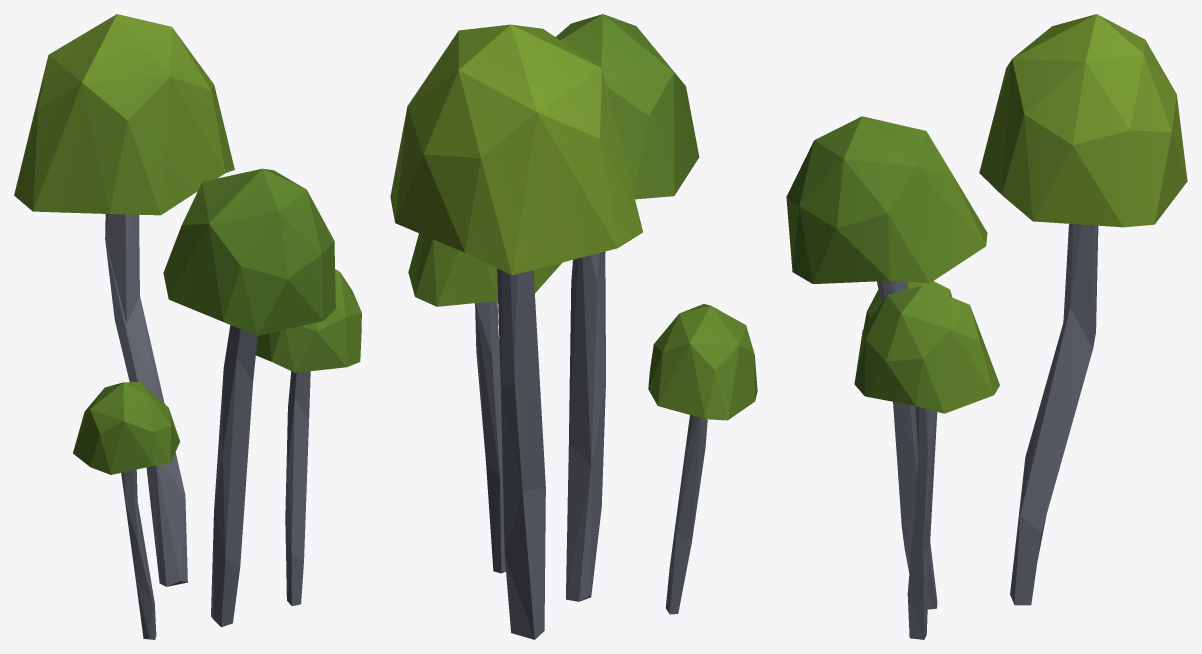
The model's file is Mushroom_01.fbx.
The picture shows the model from 3 angles, left to right: view 1: azimuth 30°, elevation 25°; view 2: azimuth 150°, elevation 25°; view 3: azimuth 270°, elevation 25°; orthographic projection. The views are drawn at different scales.
Visible parts, largest first — view 1: Mushroom_01; view 2: Mushroom_01; view 3: Mushroom_01.
Part boxes in pixels (left/top/right/bottom): Mushroom_01: left=14, top=14, right=361, bottom=639; Mushroom_01: left=390, top=14, right=757, bottom=639; Mushroom_01: left=786, top=14, right=1187, bottom=639.
Bounding box in the file's own units: 0.3518 × 0.6732 × 0.4203.
